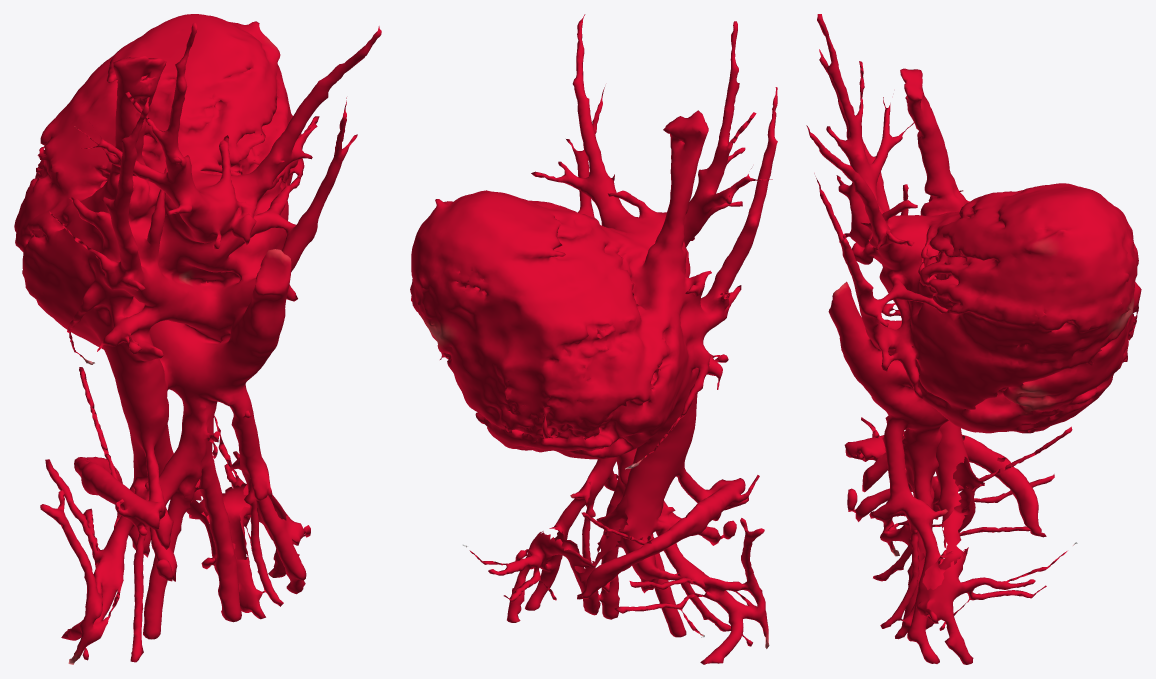
Rendered from abnormal.glb.
The picture shows the model from 3 angles, left to right: view 1: azimuth 30°, elevation 25°; view 2: azimuth 150°, elevation 25°; view 3: azimuth 270°, elevation 25°; orthographic projection. The views are drawn at different scales.
Visible parts, largest first — view 1: Object_2; view 2: Object_2; view 3: Object_2.
Boxes of the visible parts, x1,y1,x2,y2 form: Object_2: [14, 14, 381, 664]; Object_2: [410, 14, 777, 664]; Object_2: [806, 14, 1141, 664].
Size of the model in its own units: 70.02 by 139 by 73.16.
